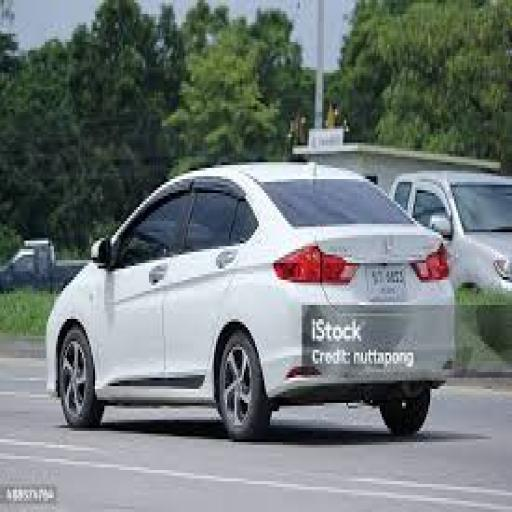License: (361, 262, 410, 300)
